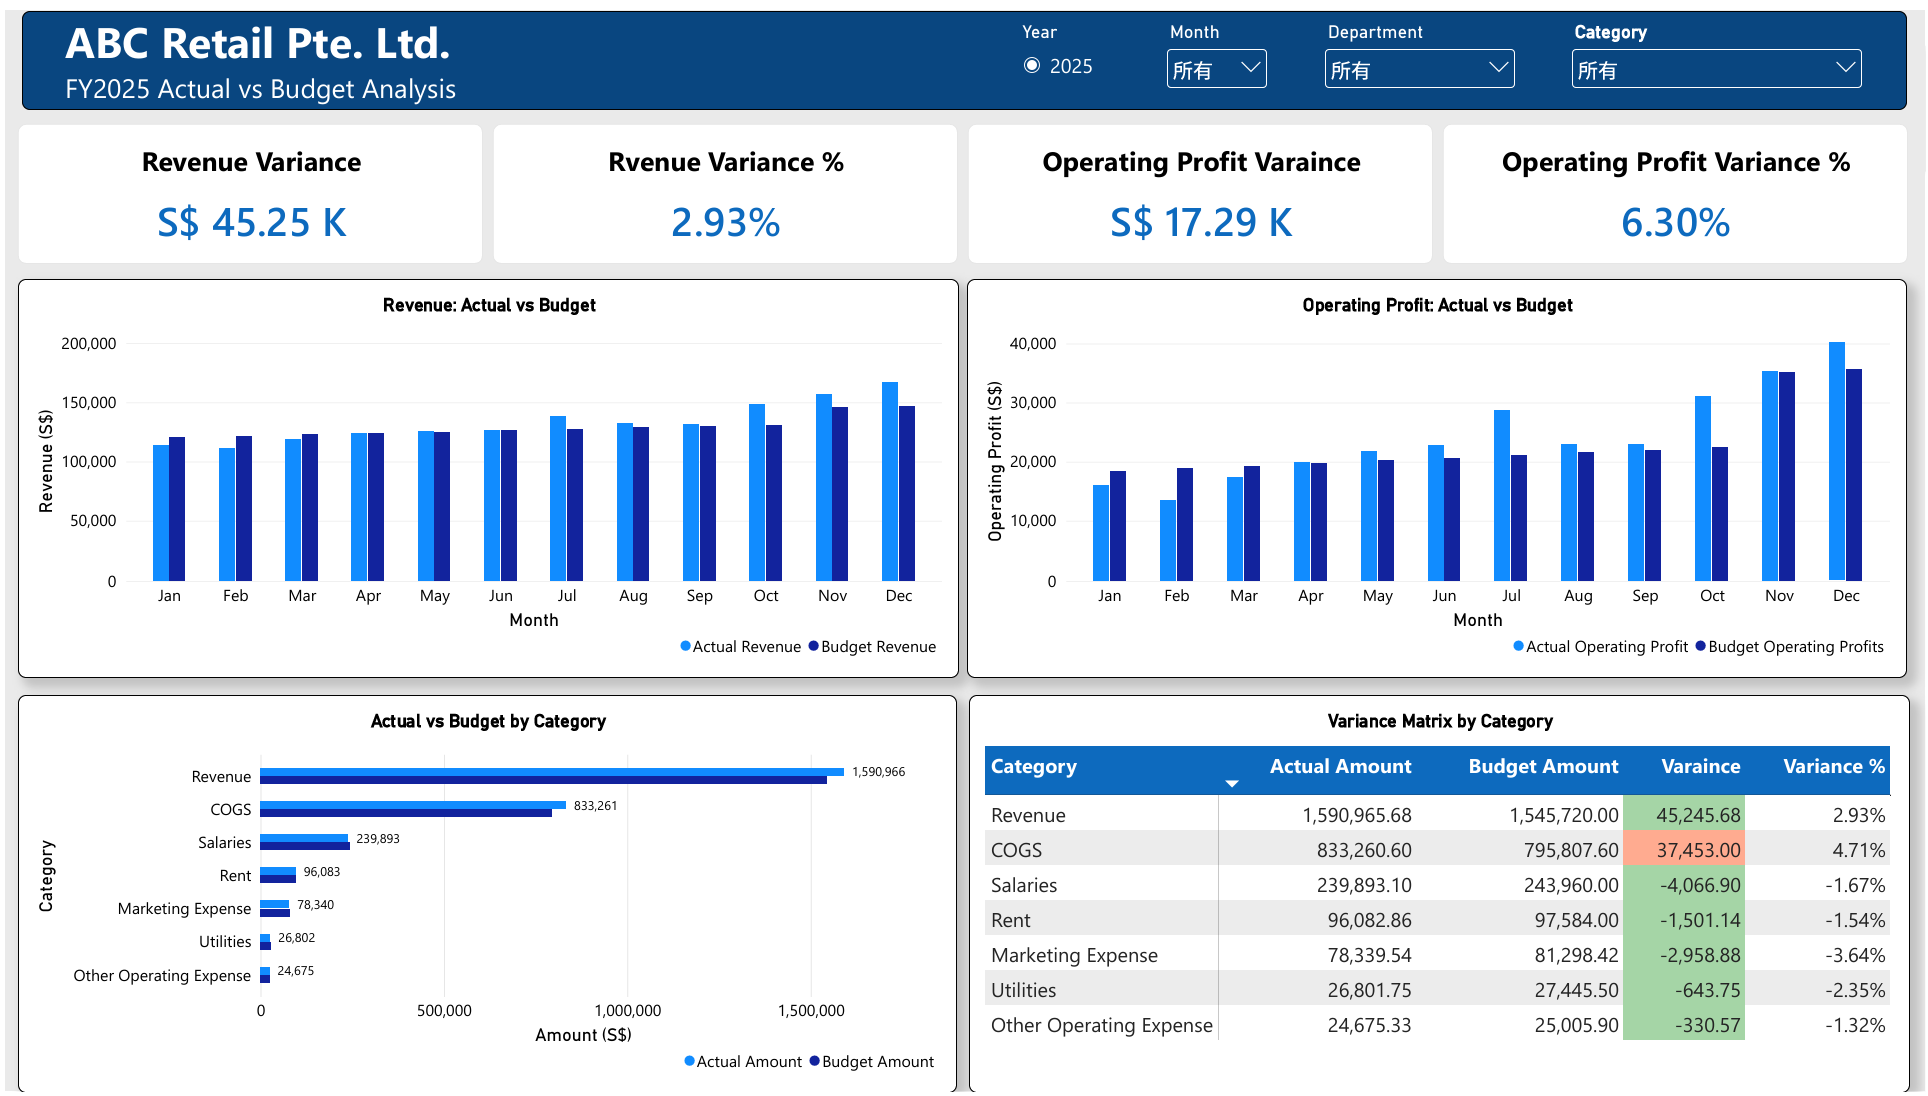

The dashboard page shown, as its layout file describes it:
{"tool":"powerbi","page":{"name":"Budget vs Actual","canvas":[1920,1080],"ordinal":1},"visuals":[{"type":"cardVisual","fields":{"Data":["Fact_Actual.Revenue Variance"]},"box":[12.4,113.4,465,140],"z":0},{"type":"textbox","box":[16.5,0,1884.9,99],"z":1000},{"type":"cardVisual","fields":{"Data":["Fact_Actual.Rvenue Variance %"]},"box":[487.4,113.4,465,140],"z":2000},{"type":"cardVisual","fields":{"Data":["Fact_Actual.Operating Profit Varaince"]},"box":[962.4,113.4,465,140],"z":3000},{"type":"cardVisual","fields":{"Data":["Fact_Actual.Operating Profit Variance %"]},"box":[1437.4,113.4,465,140],"z":4000},{"type":"slicer","fields":{"Values":["Dim_Date.Month"]},"box":[1156,9.9,110,80],"z":5000},{"type":"slicer","fields":{"Values":["Dim_Date.Year"]},"box":[1008.5,9.7,100,80.4],"z":6000},{"type":"slicer","fields":{"Values":["Dim_Department.Department"]},"box":[1313.6,9.7,200,80.4],"z":7000},{"type":"clusteredBarChart","title":"Actual vs Budget by Category","fields":{"Category":["Dim_Category.Category"],"Y":["Fact_Actual.Actual Amount","Fact_Budget.Budget Amount"]},"box":[12.4,682.6,938.3,398],"z":8000},{"type":"pivotTable","title":"Variance Matrix by Category","fields":{"Rows":["Dim_Category.Category"],"Values":["Fact_Actual.Actual Amount","Fact_Budget.Budget Amount","Fact_Actual.Varaince","Fact_Actual.Variance %"]},"box":[963.1,682.6,940.4,398],"z":9000},{"type":"clusteredColumnChart","title":"Revenue: Actual vs Budget","fields":{"Category":["Dim_Date.Month"],"Y":["Fact_Actual.Total Revenue Calculation","Fact_Budget.Budget Revenue"]},"box":[12.4,268.1,940.4,398],"z":10000},{"type":"clusteredColumnChart","title":"Operating Profit: Actual vs Budget","fields":{"Category":["Dim_Date.Month"],"Y":["Fact_Actual.Operating Profit","Fact_Budget.Budget Operating Profit"]},"box":[961,268.1,940.4,398],"z":11000},{"type":"slicer","fields":{"Values":["Dim_Category.Category"]},"box":[1561.2,9.9,300,80],"z":11501}]}

Visuals, with their boxes in screenshot pixels (x1, y1, x2, y2), scaled from the page's 1920x1080 canvas onto the 1928x1096 screenshot:
cardVisual - Fact_Actual.Revenue Variance: left=12, top=115, right=479, bottom=257
textbox: left=17, top=0, right=1909, bottom=100
cardVisual - Fact_Actual.Rvenue Variance %: left=489, top=115, right=956, bottom=257
cardVisual - Fact_Actual.Operating Profit Varaince: left=966, top=115, right=1433, bottom=257
cardVisual - Fact_Actual.Operating Profit Variance %: left=1443, top=115, right=1910, bottom=257
slicer - Dim_Date.Month: left=1161, top=10, right=1271, bottom=91
slicer - Dim_Date.Year: left=1013, top=10, right=1113, bottom=91
slicer - Dim_Department.Department: left=1319, top=10, right=1520, bottom=91
"Actual vs Budget by Category" clusteredBarChart: left=12, top=693, right=955, bottom=1095
"Variance Matrix by Category" pivotTable: left=967, top=693, right=1911, bottom=1095
"Revenue: Actual vs Budget" clusteredColumnChart: left=12, top=272, right=957, bottom=676
"Operating Profit: Actual vs Budget" clusteredColumnChart: left=965, top=272, right=1909, bottom=676
slicer - Dim_Category.Category: left=1568, top=10, right=1869, bottom=91
